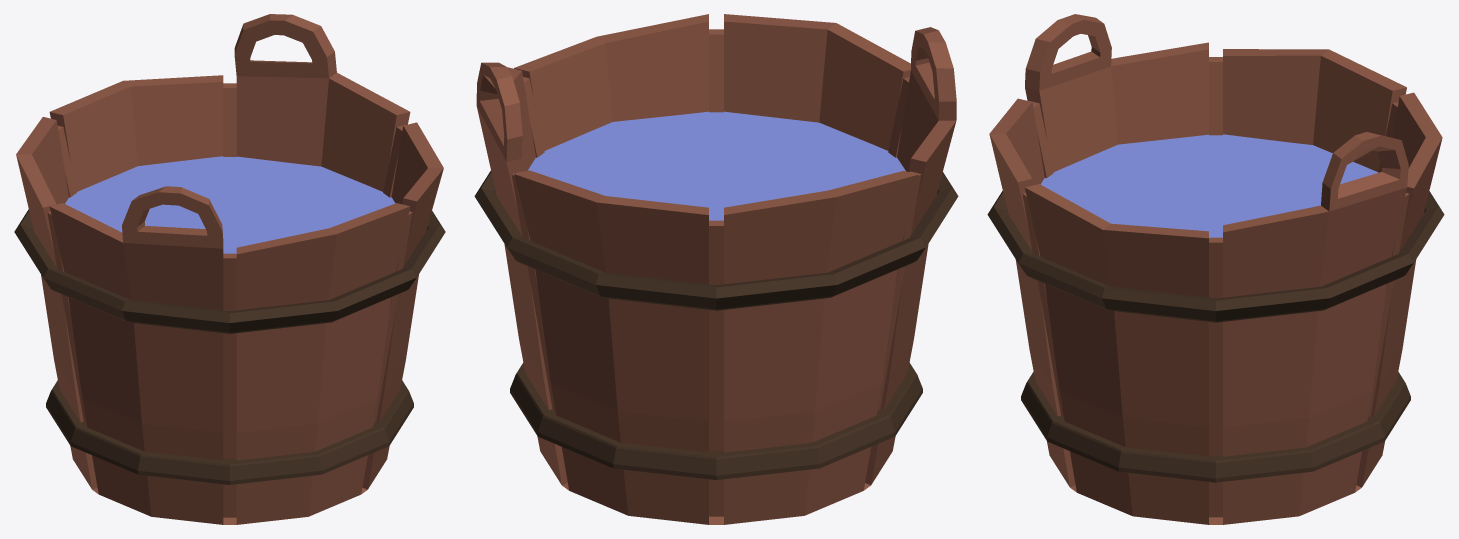
Rendered from Bucket_5_Water.fbx.
The picture shows the model from 3 angles, left to right: view 1: azimuth 30°, elevation 25°; view 2: azimuth 150°, elevation 25°; view 3: azimuth 270°, elevation 25°; orthographic projection. The views are drawn at different scales.
Parts seen in each view (by area): view 1: Cylinder.037, Circle.011, Cylinder.039, Cylinder.038; view 2: Cylinder.037, Circle.011, Cylinder.039, Cylinder.038; view 3: Cylinder.037, Circle.011, Cylinder.039, Cylinder.038.
Boxes of the visible parts, left/top/right/bottom form: Cylinder.037: left=16, top=14, right=443, bottom=524; Circle.011: left=65, top=156, right=395, bottom=253; Cylinder.039: left=14, top=209, right=445, bottom=333; Cylinder.038: left=46, top=380, right=413, bottom=484; Cylinder.037: left=476, top=14, right=956, bottom=524; Circle.011: left=528, top=111, right=905, bottom=220; Cylinder.039: left=474, top=171, right=958, bottom=310; Cylinder.038: left=510, top=363, right=922, bottom=479; Cylinder.037: left=989, top=14, right=1442, bottom=524; Circle.011: left=1040, top=134, right=1378, bottom=237; Cylinder.039: left=987, top=191, right=1444, bottom=322; Cylinder.038: left=1021, top=372, right=1410, bottom=482.
Size of the model in its own units: 261 by 241 by 261.
